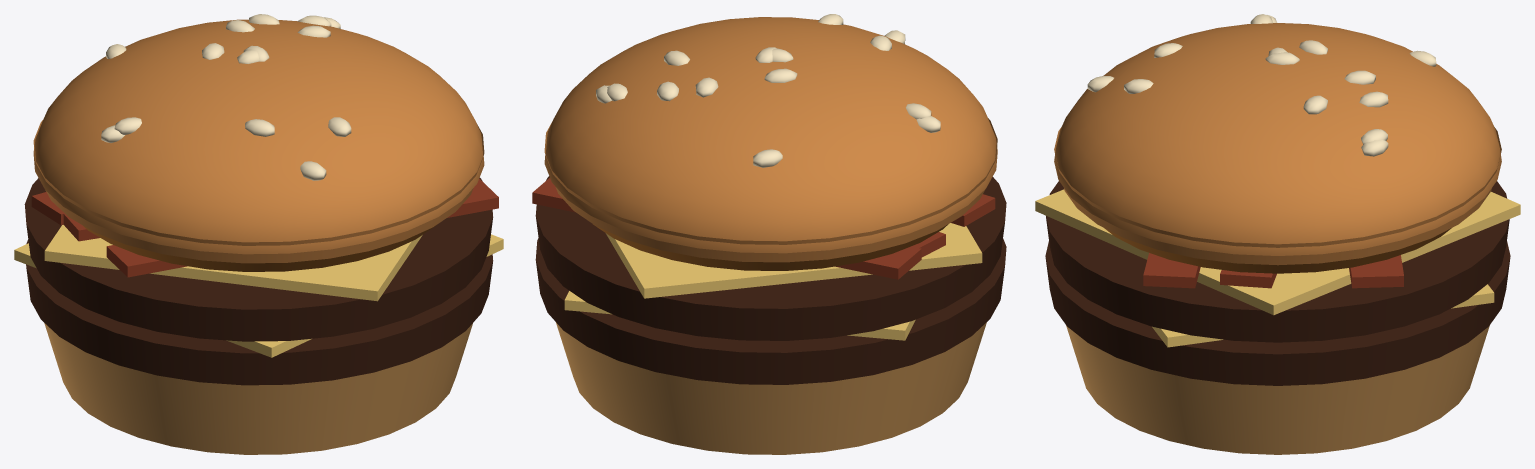
The model's file is burger-doble-gouda.glb.
3 renders of one model, left to right at view 1: azimuth 30°, elevation 25°; view 2: azimuth 150°, elevation 25°; view 3: azimuth 270°, elevation 25°, orthographic.
Size of the model in its own units: 0.1739 by 0.126 by 0.1739.
